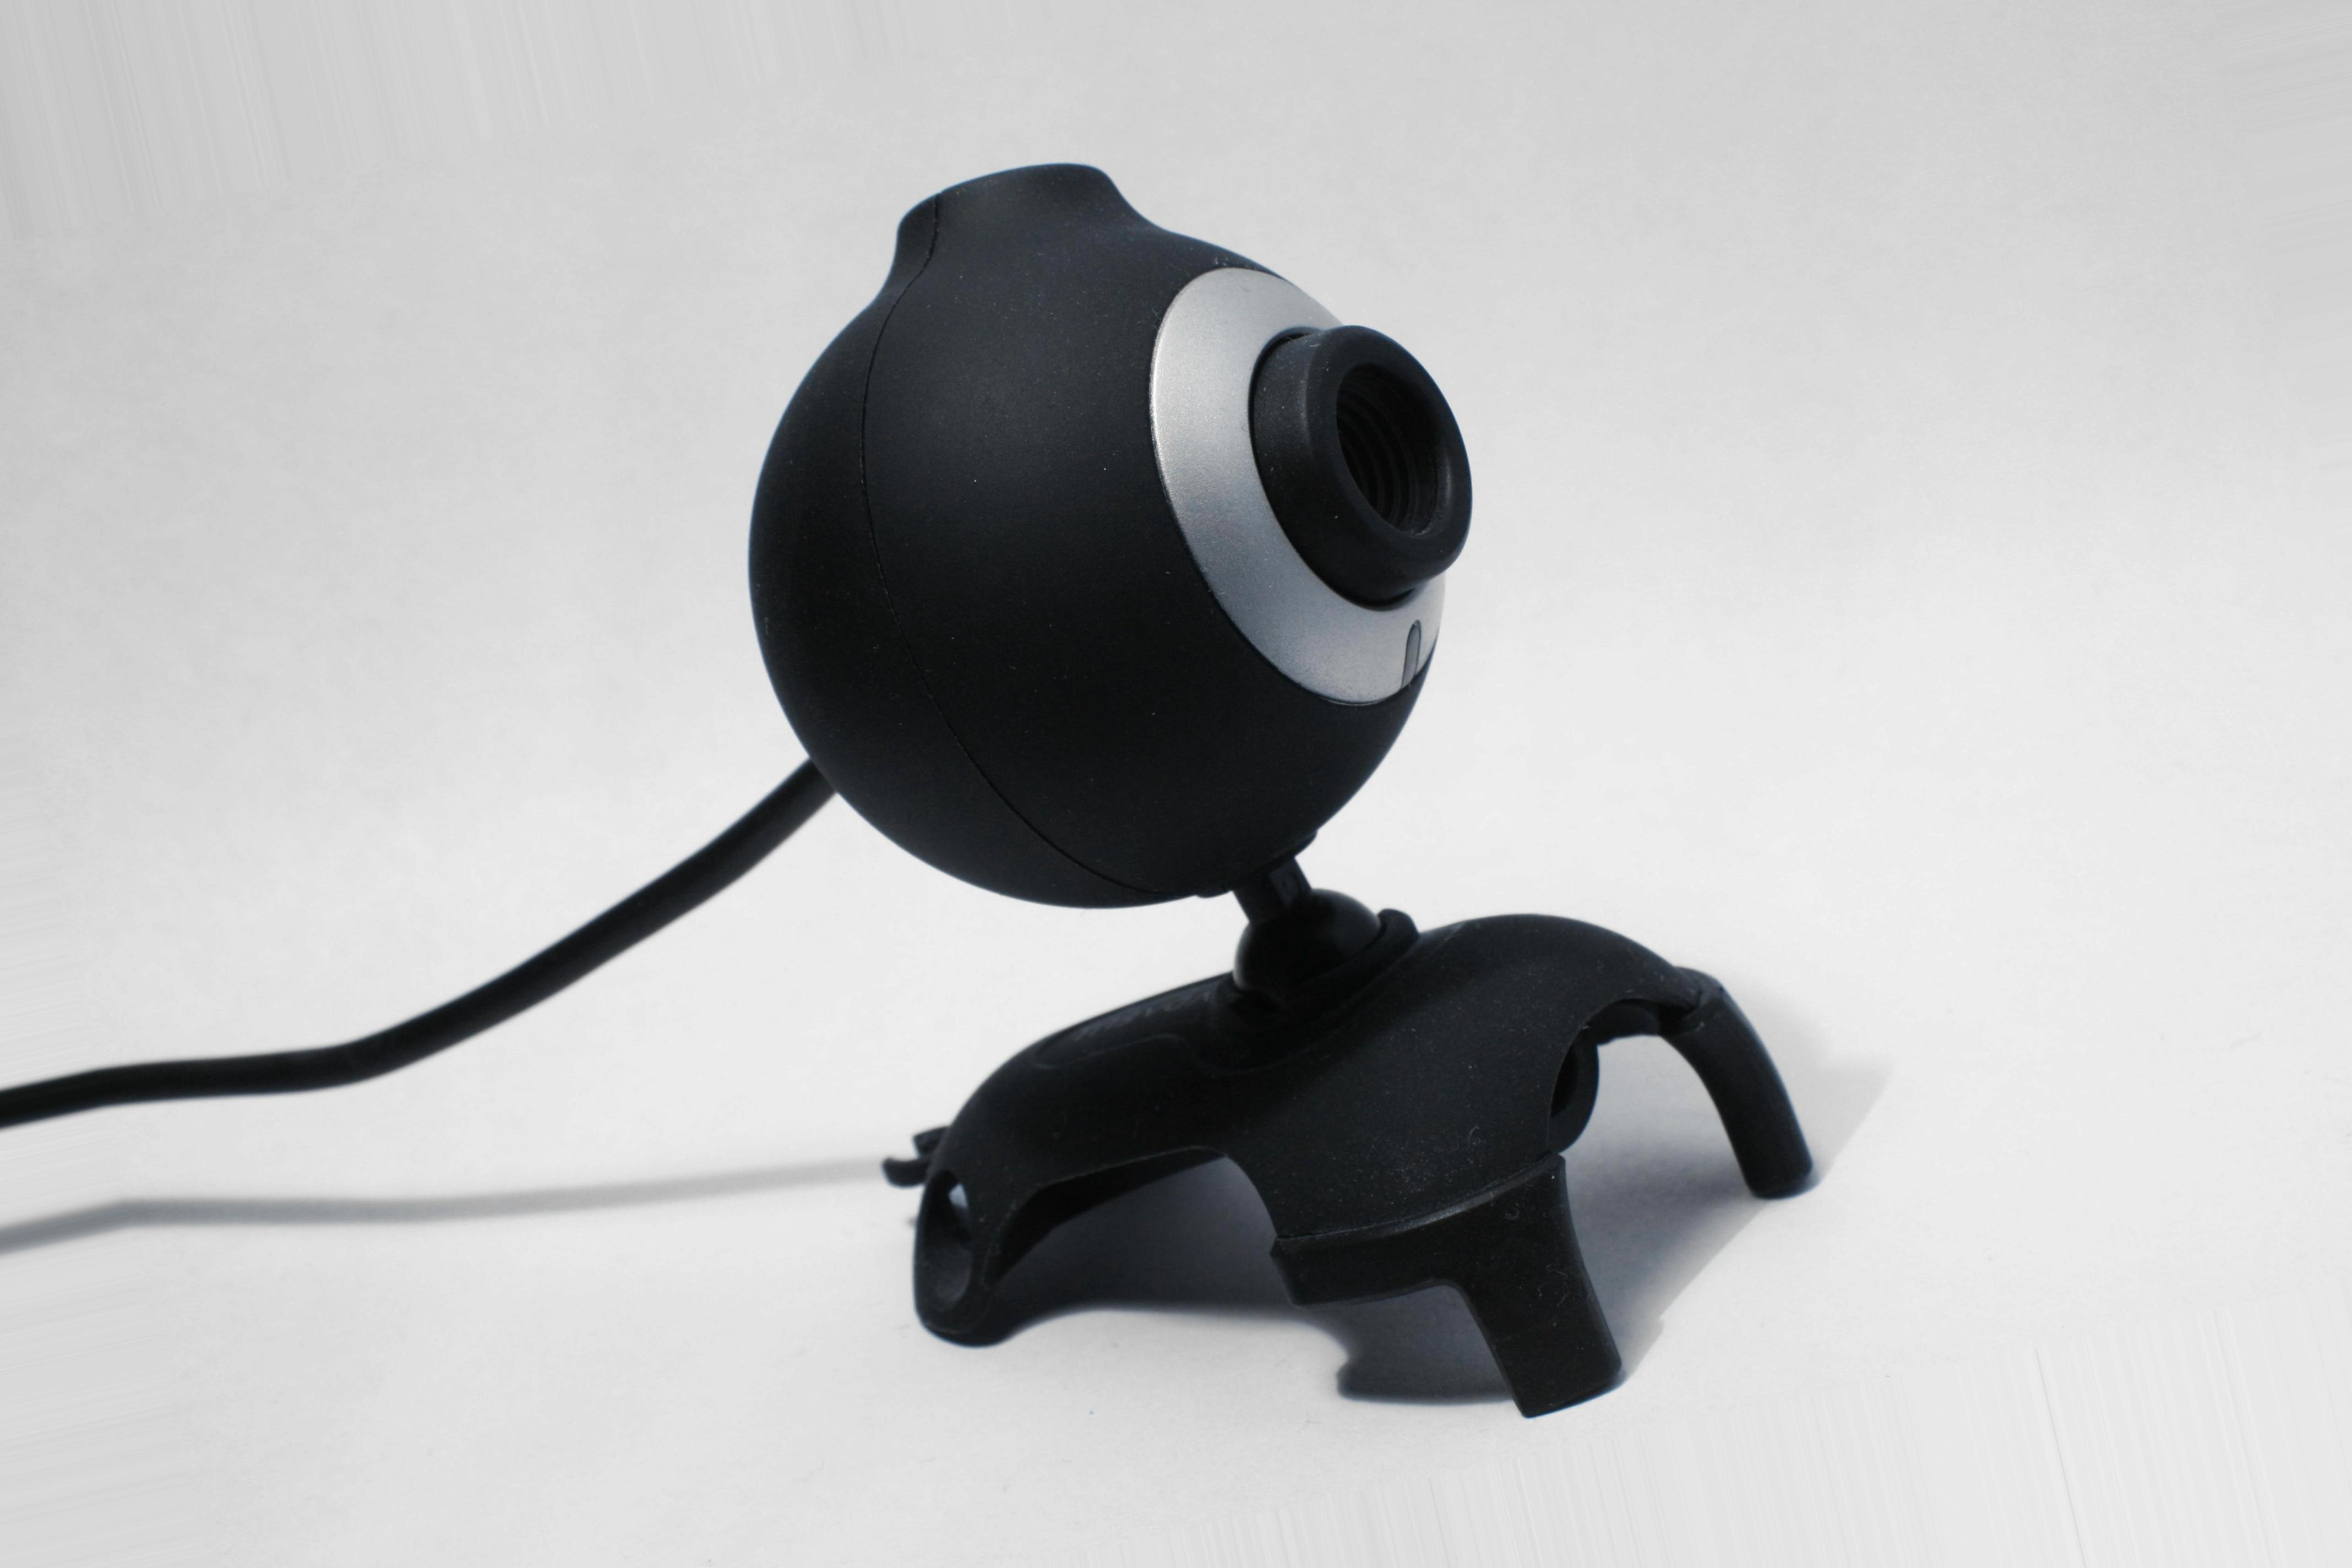webcam: (709, 138, 1552, 955)
